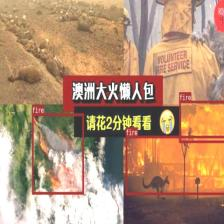fire: (125, 135, 224, 194), (31, 113, 83, 194), (179, 100, 224, 142)
